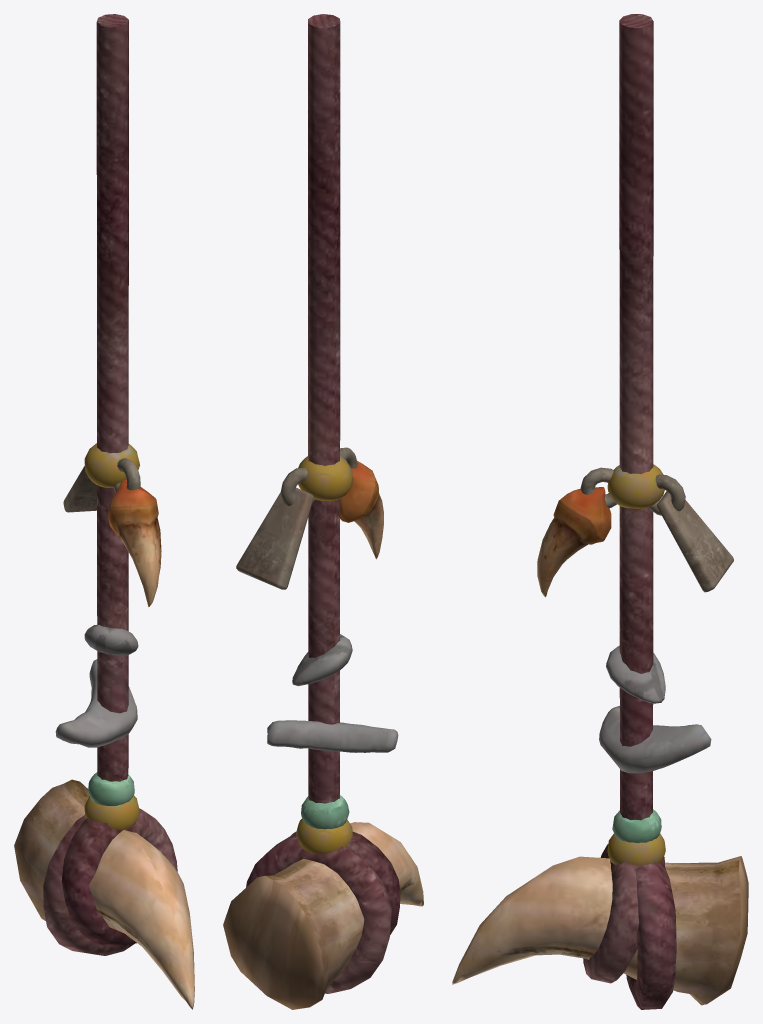
3 renders of one model, left to right at view 1: azimuth 30°, elevation 25°; view 2: azimuth 150°, elevation 25°; view 3: azimuth 270°, elevation 25°, orthographic. The views are drawn at different scales.
Visible parts, largest first — view 1: SM_Garou_Ornament_01v2_LOD0; view 2: SM_Garou_Ornament_01v2_LOD0; view 3: SM_Garou_Ornament_01v2_LOD0.
Part boxes in pixels (box(x1,y1,x2,y2)): SM_Garou_Ornament_01v2_LOD0: box(14, 14, 194, 1009); SM_Garou_Ornament_01v2_LOD0: box(223, 14, 423, 1009); SM_Garou_Ornament_01v2_LOD0: box(452, 14, 748, 1009).
Size of the model in its own units: 0.1144 by 0.7813 by 0.2134.
1 material, 1 textured.
